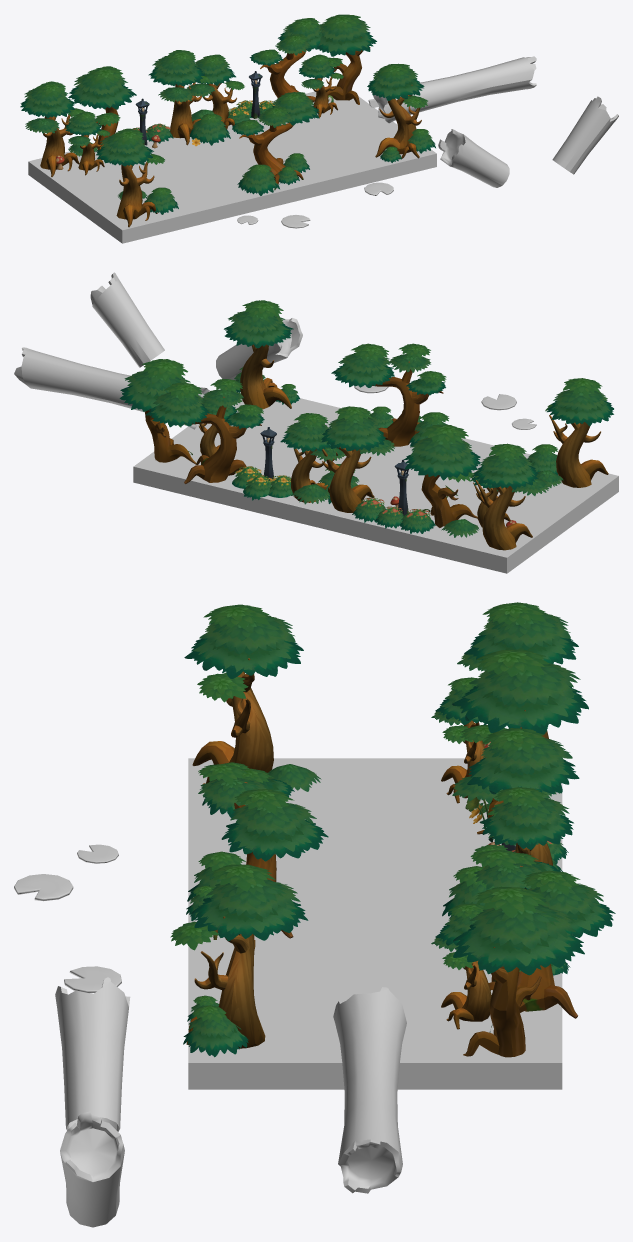
Rendered from Pre Bridge.fbx.
The picture shows the model from 3 angles, top to bottom: view 1: azimuth 30°, elevation 25°; view 2: azimuth 150°, elevation 25°; view 3: azimuth 270°, elevation 25°; orthographic projection. The views are drawn at different scales.
Parts seen in each view (by area): view 1: Pre_Bridge_Floor, polySurface643 (×7), Bridge, polySurface923 (×4), Left_Side, Right_Side, polySurface676 (×2), polySurface922 (×4), polySurface942 (×2), polySurface921 (×4), polySurface941 (×2), polySurface675 (+7 smaller); view 2: Pre_Bridge_Floor, polySurface643 (×6), polySurface923 (×5), Bridge, polySurface676 (×2), polySurface922 (×5), Right_Side, polySurface675 (×2), polySurface941 (×2), polySurface921 (×4), polySurface942 (×2), polySurface945 (×2) (+11 smaller); view 3: Pre_Bridge_Floor, Bridge, polySurface923 (×5), polySurface643 (×4), polySurface922 (×5), Left_Side, polySurface942 (×2), Right_Side, polySurface941 (×2), polySurface921 (×4), polySurface945 (×2), polySurface675 (+10 smaller).
Part boxes in pixels (x1,y1,x2,y2): Pre_Bridge_Floor: [28, 91, 436, 243]; polySurface643 (×7): [40, 77, 421, 227]; Bridge: [368, 56, 536, 123]; polySurface923 (×4): [20, 66, 424, 166]; Left_Side: [438, 129, 509, 187]; Right_Side: [552, 96, 618, 174]; polySurface676 (×2): [239, 49, 315, 190]; polySurface922 (×4): [24, 56, 417, 153]; polySurface942 (×2): [68, 32, 376, 109]; polySurface921 (×4): [35, 50, 410, 145]; polySurface941 (×2): [74, 20, 370, 95]; polySurface675: [327, 37, 370, 104]; Pre_Bridge_Floor: [133, 391, 618, 573]; polySurface643 (×6): [199, 344, 608, 550]; polySurface923 (×5): [224, 323, 613, 489]; Bridge: [14, 347, 210, 429]; polySurface676 (×2): [184, 361, 443, 483]; polySurface922 (×5): [228, 311, 607, 477]; Right_Side: [90, 272, 164, 367]; polySurface675 (×2): [145, 409, 477, 527]; polySurface941 (×2): [124, 371, 472, 464]; polySurface921 (×4): [242, 300, 602, 460]; polySurface942 (×2): [119, 385, 480, 480]; polySurface945 (×2): [146, 364, 394, 427]; Pre_Bridge_Floor: [188, 758, 562, 1089]; Bridge: [333, 987, 407, 1193]; polySurface923 (×5): [184, 634, 579, 940]; polySurface643 (×4): [186, 658, 491, 1048]; polySurface922 (×5): [199, 612, 572, 917]; Left_Side: [55, 977, 130, 1131]; polySurface942 (×2): [452, 686, 588, 975]; Right_Side: [60, 1111, 124, 1227]; polySurface941 (×2): [469, 663, 580, 949]; polySurface921 (×4): [203, 602, 549, 891]; polySurface945 (×2): [221, 820, 615, 937]; polySurface675: [463, 947, 541, 1057].
Bounding box in the file's own units: 10.44 × 2.28 × 5.58.
